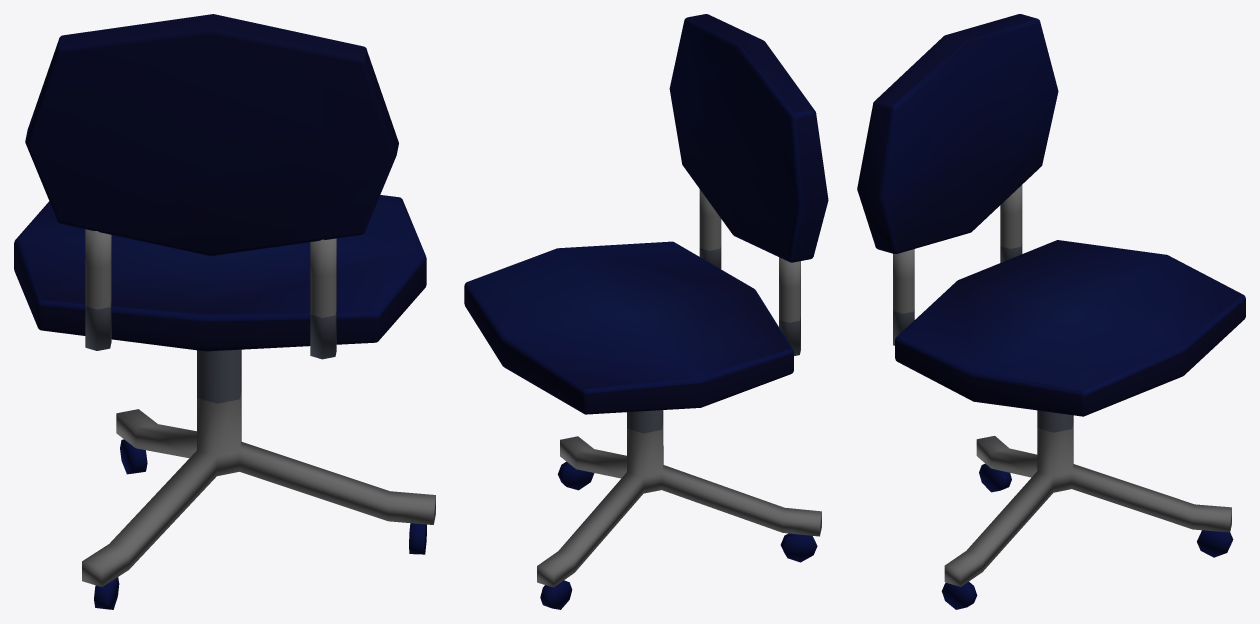
Rendered from sillatexjtriufj.fbx.
3 renders of one model, left to right at view 1: azimuth 30°, elevation 25°; view 2: azimuth 150°, elevation 25°; view 3: azimuth 270°, elevation 25°, orthographic. The views are drawn at different scales.
Parts seen in each view (by area): view 1: silla001; view 2: silla001; view 3: silla001.
Part boxes in pixels (x1,y1,x2,y2): silla001: (14, 14, 435, 609); silla001: (464, 14, 828, 609); silla001: (857, 14, 1245, 609).
Bounding box in the file's own units: 38.69 × 53.25 × 38.64.
